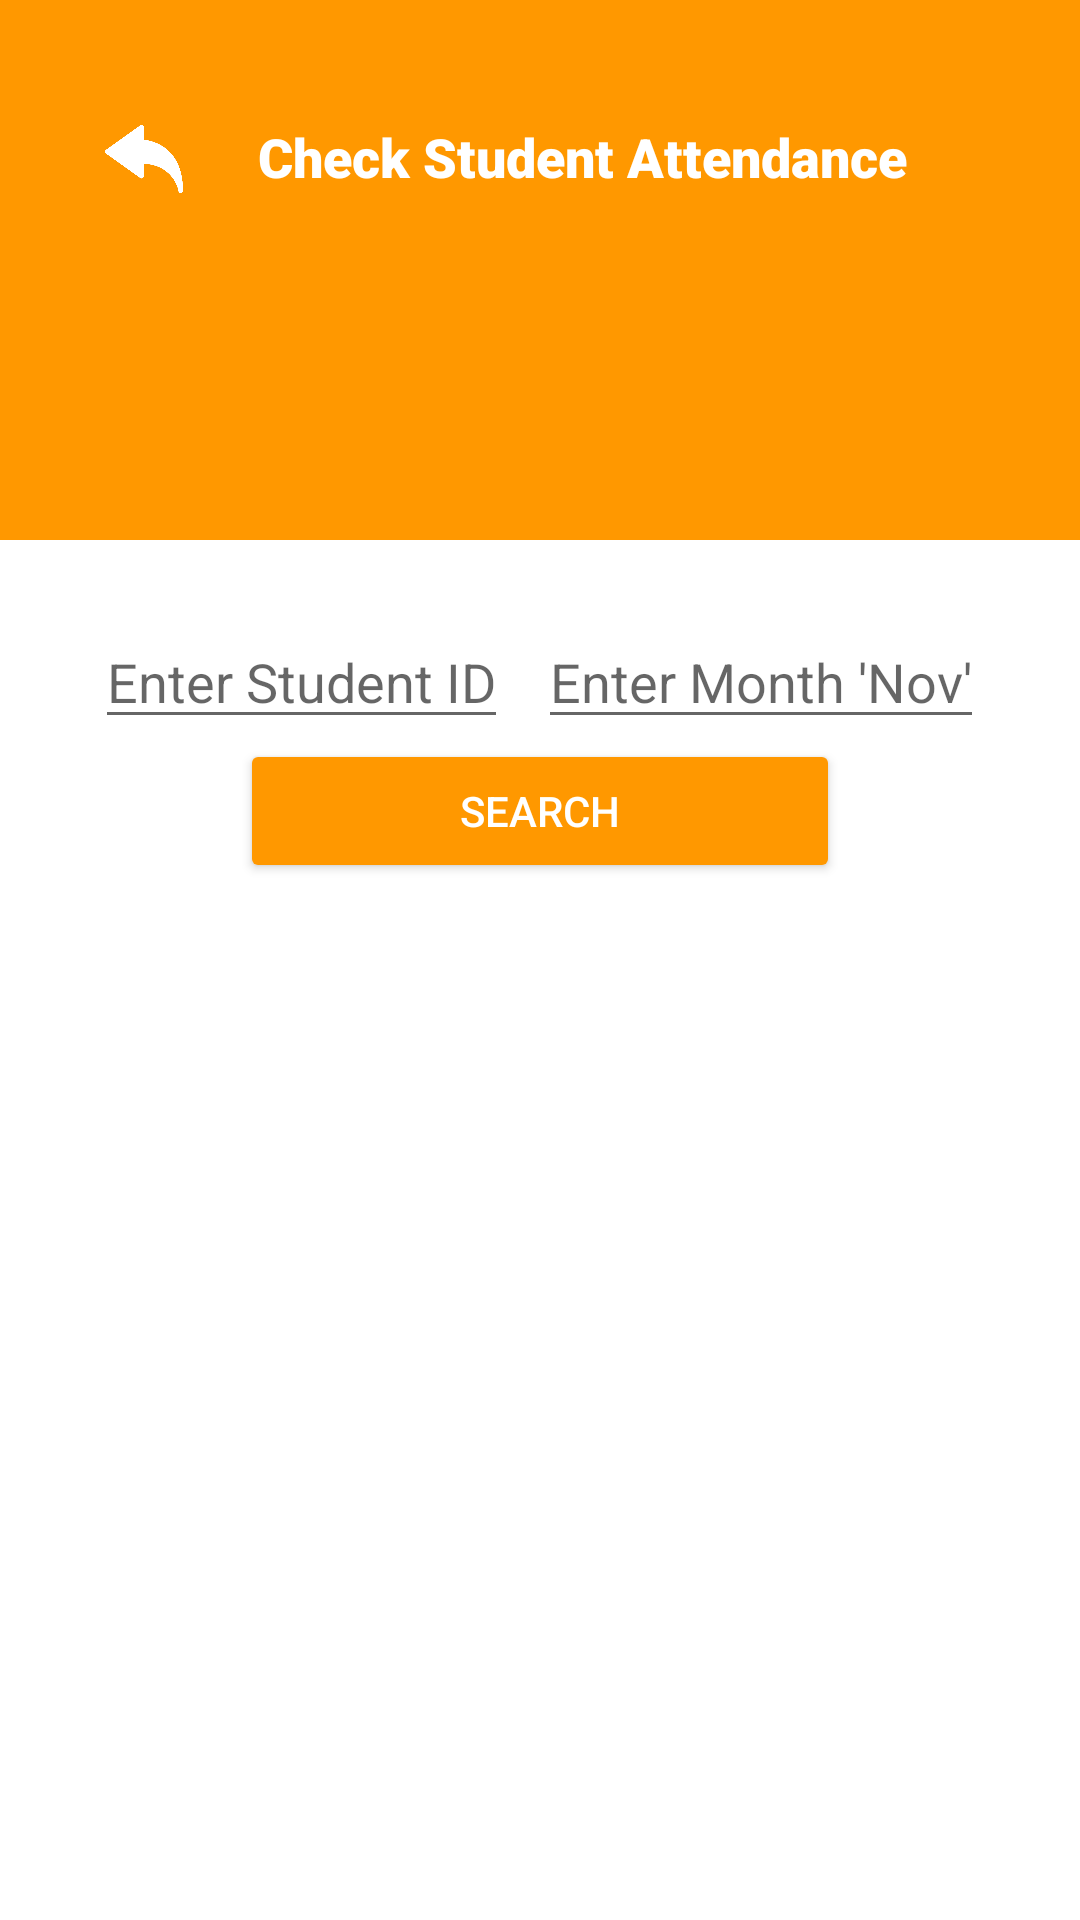

Named icons in this screenshot (1080px x 1920px) and their bounding boxes, (x1, y1, x2, y2):
back: (105, 125, 183, 193)
